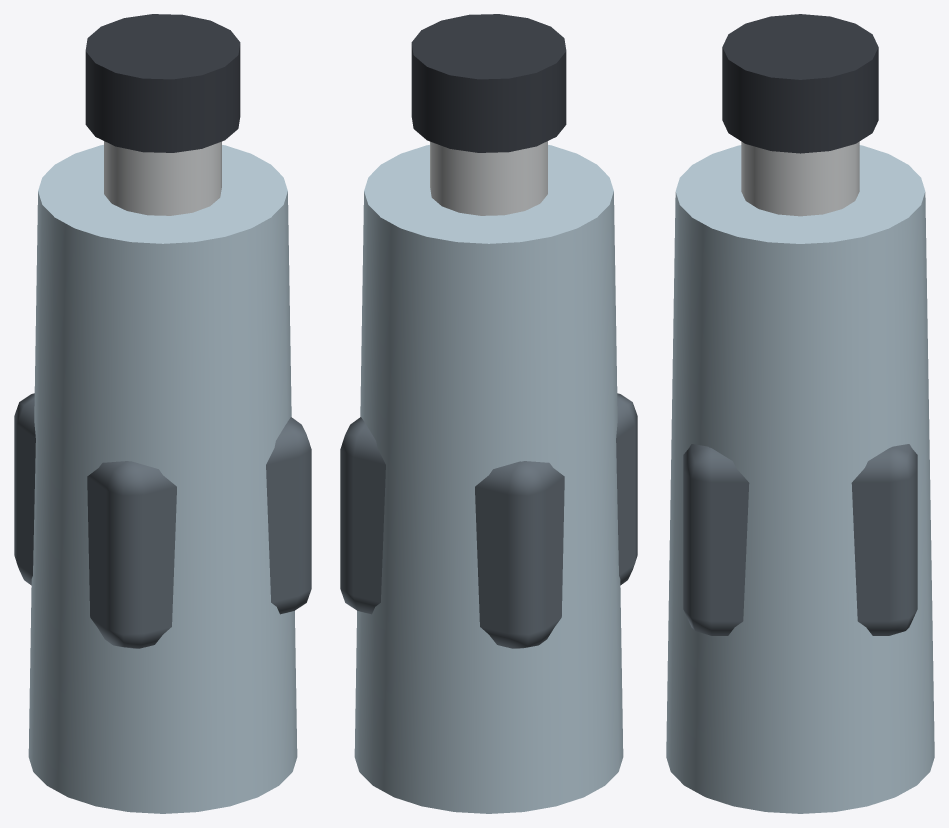
The model's file is water_bottle01.glb.
3 renders of one model, left to right at view 1: azimuth 30°, elevation 25°; view 2: azimuth 150°, elevation 25°; view 3: azimuth 270°, elevation 25°, orthographic.
Visible parts, largest first — view 1: body, sleeve, cap, neck; view 2: body, sleeve, cap, neck; view 3: body, sleeve, cap, neck.
Boxes of the visible parts, <box> form: body: <box>28,145,297,813</box>; sleeve: <box>14,393,311,648</box>; cap: <box>85,14,240,152</box>; neck: <box>104,141,221,215</box>; body: <box>354,145,623,813</box>; sleeve: <box>340,393,637,648</box>; cap: <box>411,14,566,152</box>; neck: <box>430,141,547,215</box>; body: <box>666,145,934,813</box>; sleeve: <box>683,444,917,635</box>; cap: <box>722,14,878,153</box>; neck: <box>741,141,859,216</box>.
Size of the model in its own units: 0.086 by 0.251 by 0.086.
